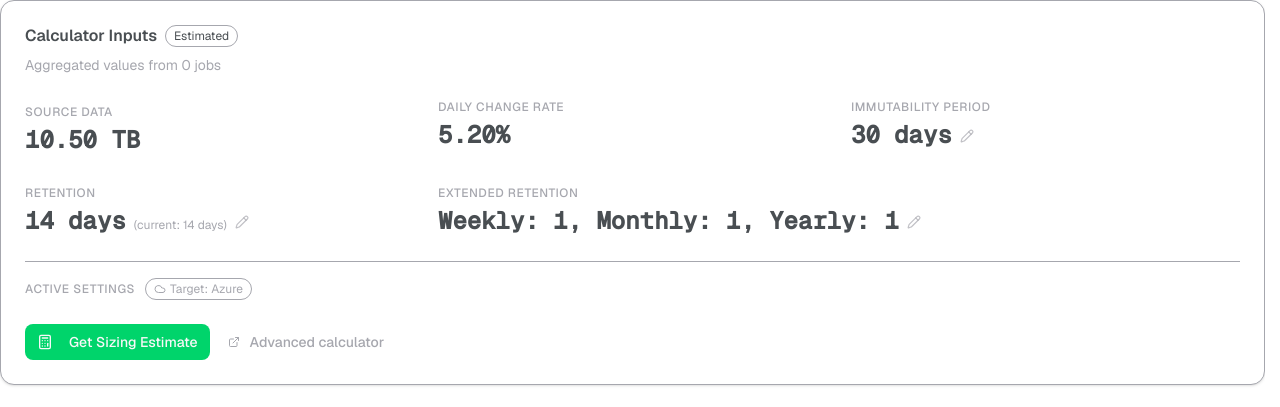
Test case: CalculatorInputs › controlled consent behavior (new prop interface) › disables calculate button while GFS editor is open
Click the button named "edit extended retention". click: (914, 222)
box: [907,215,921,229]
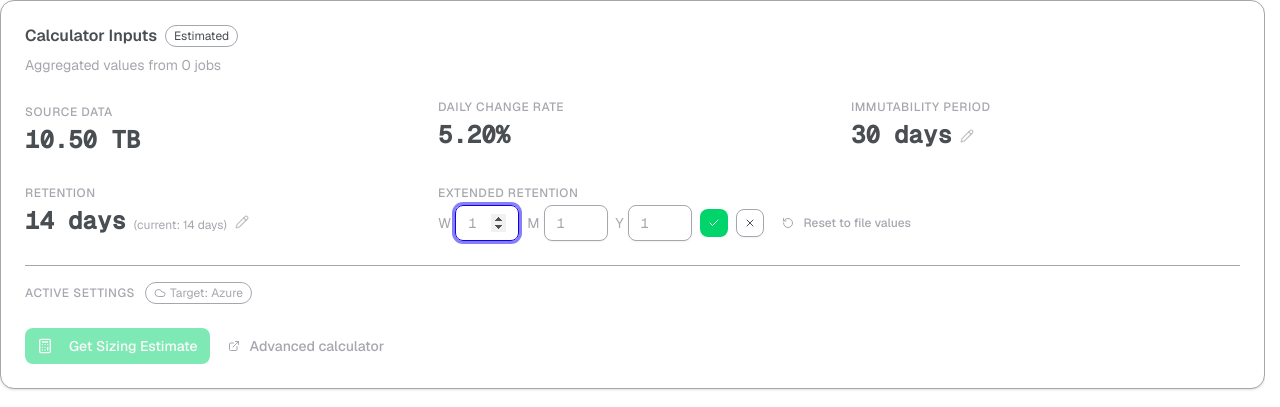
Check: the button "Get Sizing Estimate" is disabled, box [25,328,210,364]
